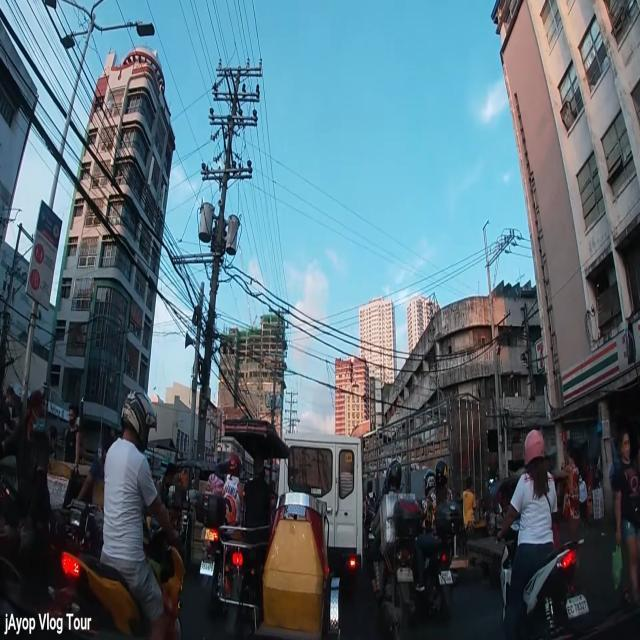motorcycle: (62, 388, 185, 640), (500, 428, 590, 640), (368, 461, 419, 640), (413, 457, 461, 625), (194, 472, 233, 617)
tricycle: (220, 419, 342, 640), (46, 438, 108, 554)
truck: (360, 392, 486, 535)
